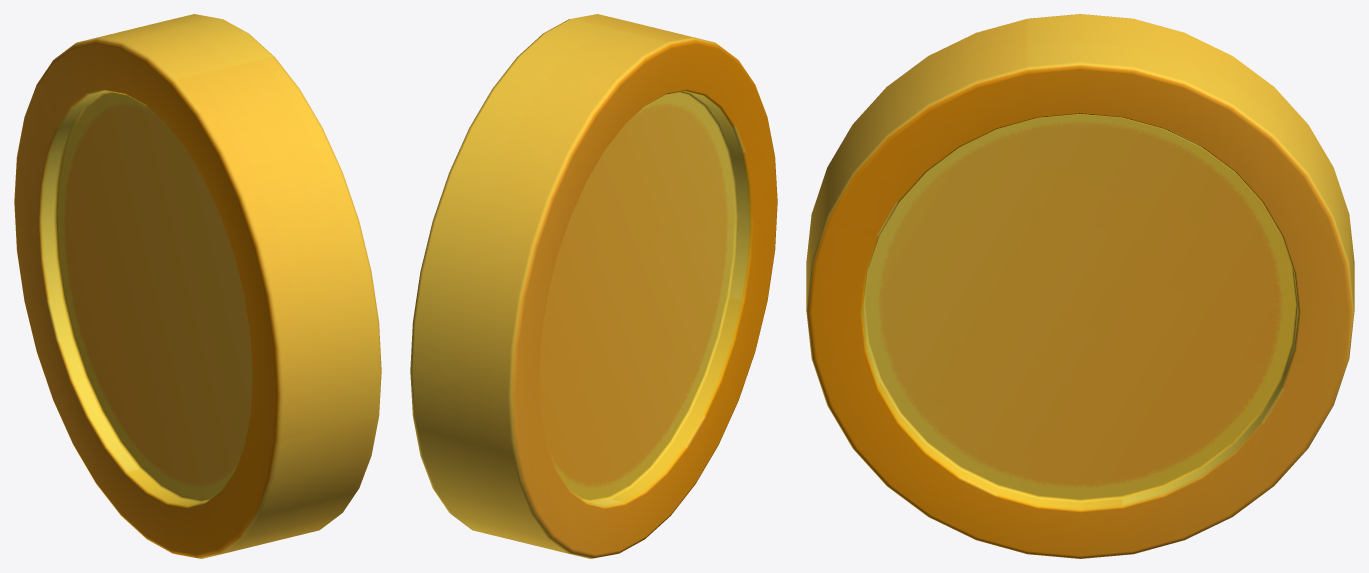
Rendered from coin03.fbx.
3 renders of one model, left to right at view 1: azimuth 30°, elevation 25°; view 2: azimuth 150°, elevation 25°; view 3: azimuth 270°, elevation 25°, orthographic. The views are drawn at different scales.
Visible parts, largest first — view 1: coin-lp.03; view 2: coin-lp.03; view 3: coin-lp.03.
Part boxes in pixels (x1,y1,x2,y2): coin-lp.03: [14, 14, 381, 558]; coin-lp.03: [410, 14, 777, 558]; coin-lp.03: [806, 14, 1354, 558].
Size of the model in its own units: 0.0607 by 0.2673 by 0.2673.
Materials: 1 (1 with a texture image).
